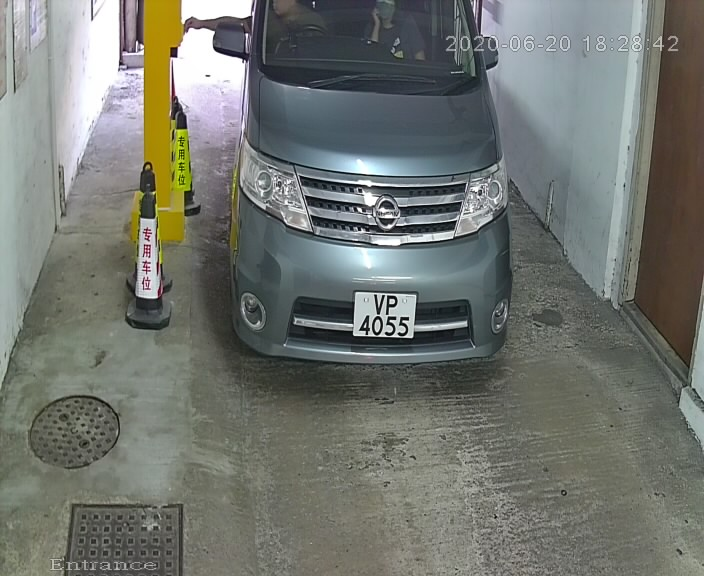privatecar: (204, 2, 572, 410)
